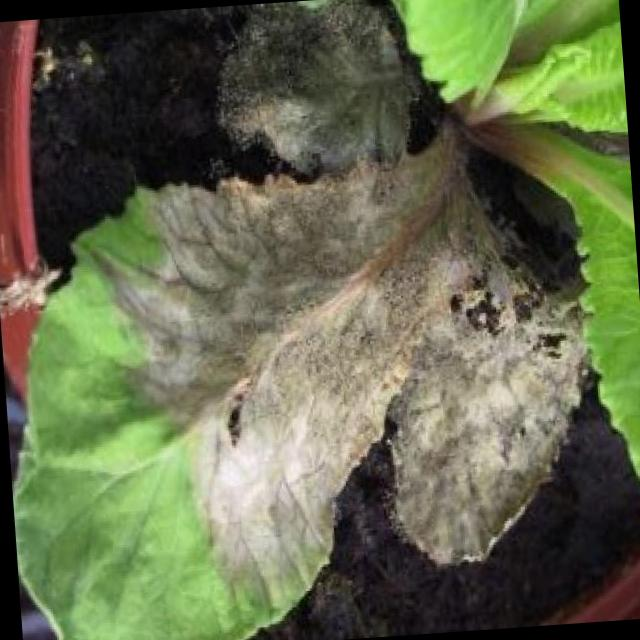Septoria_Blight: (0, 0, 613, 629)
